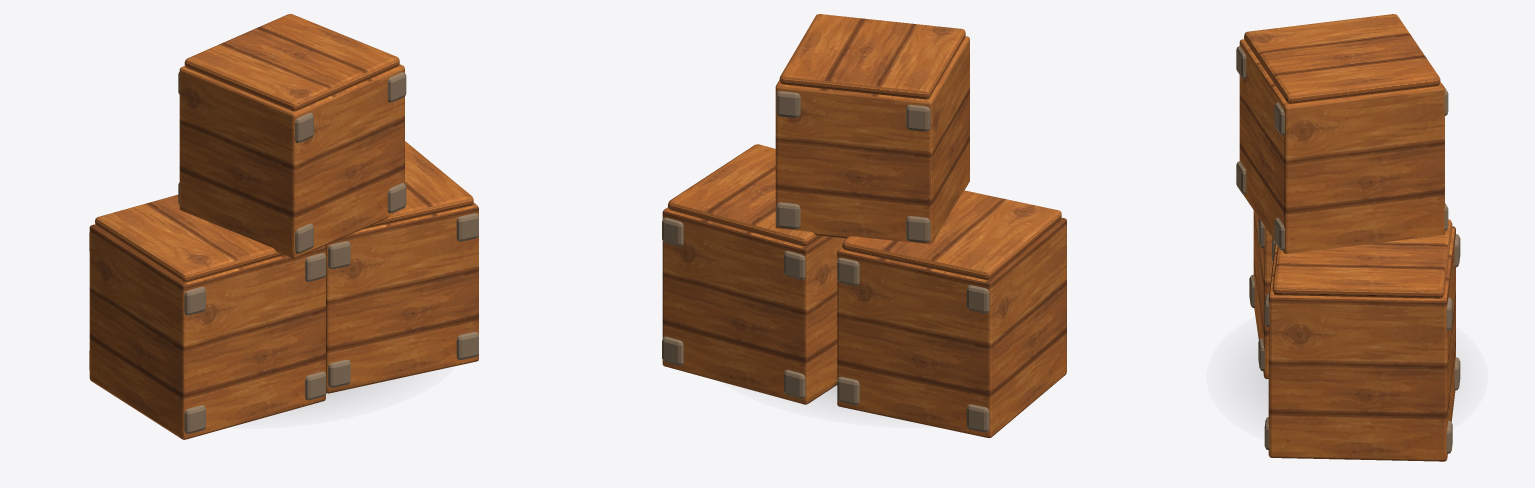
Rendered from crates.glb.
3 renders of one model, left to right at view 1: azimuth 30°, elevation 25°; view 2: azimuth 150°, elevation 25°; view 3: azimuth 270°, elevation 25°, orthographic. The views are drawn at different scales.
Parts seen in each view (by area): view 1: body.001, body, body.002, lid.002, lid, lid.001, batten.005, batten.008, batten.006, batten.007, batten.002, batten.001; view 2: body.001, body, body.002, lid.002, lid, lid.001, batten.011, batten.009, batten.010, batten, batten.001, batten.002 (+2 smaller); view 3: body.002, body, lid.002, lid.001, body.001, batten, batten.011, batten.007, batten.008.
Part boxes in pixels (bbox=[...]): body.001: bbox=[89, 224, 325, 439]; body: bbox=[179, 64, 404, 258]; body.002: bbox=[325, 202, 478, 393]; lid.002: bbox=[184, 14, 399, 111]; lid: bbox=[95, 194, 283, 282]; lid.001: bbox=[364, 141, 473, 228]; batten.005: bbox=[328, 359, 350, 387]; batten.008: bbox=[456, 213, 478, 241]; batten.006: bbox=[328, 241, 350, 269]; batten.007: bbox=[456, 332, 478, 359]; batten.002: bbox=[89, 232, 205, 315]; batten.001: bbox=[89, 351, 205, 433]; body.001: bbox=[837, 217, 1066, 437]; body: bbox=[775, 36, 969, 244]; body.002: bbox=[662, 207, 845, 404]; lid.002: bbox=[779, 14, 965, 99]; lid: bbox=[842, 190, 1061, 279]; lid.001: bbox=[668, 144, 821, 246]; batten.011: bbox=[776, 202, 800, 229]; batten.009: bbox=[906, 216, 930, 242]; batten.010: bbox=[906, 104, 930, 131]; batten: bbox=[776, 91, 800, 117]; batten.001: bbox=[966, 404, 989, 432]; batten.002: bbox=[966, 285, 989, 313]; body.002: bbox=[1268, 226, 1455, 461]; body: bbox=[1239, 39, 1444, 253]; lid.002: bbox=[1244, 14, 1440, 103]; lid.001: bbox=[1272, 219, 1452, 298]; body.001: bbox=[1253, 210, 1272, 378]; batten: bbox=[1274, 84, 1448, 135]; batten.011: bbox=[1274, 203, 1448, 250]; batten.007: bbox=[1264, 417, 1452, 453]; batten.008: bbox=[1264, 294, 1452, 330].
Size of the model in its own units: 1.6 by 1.25 by 1.2.
Materials: 3 (2 with a texture image).
